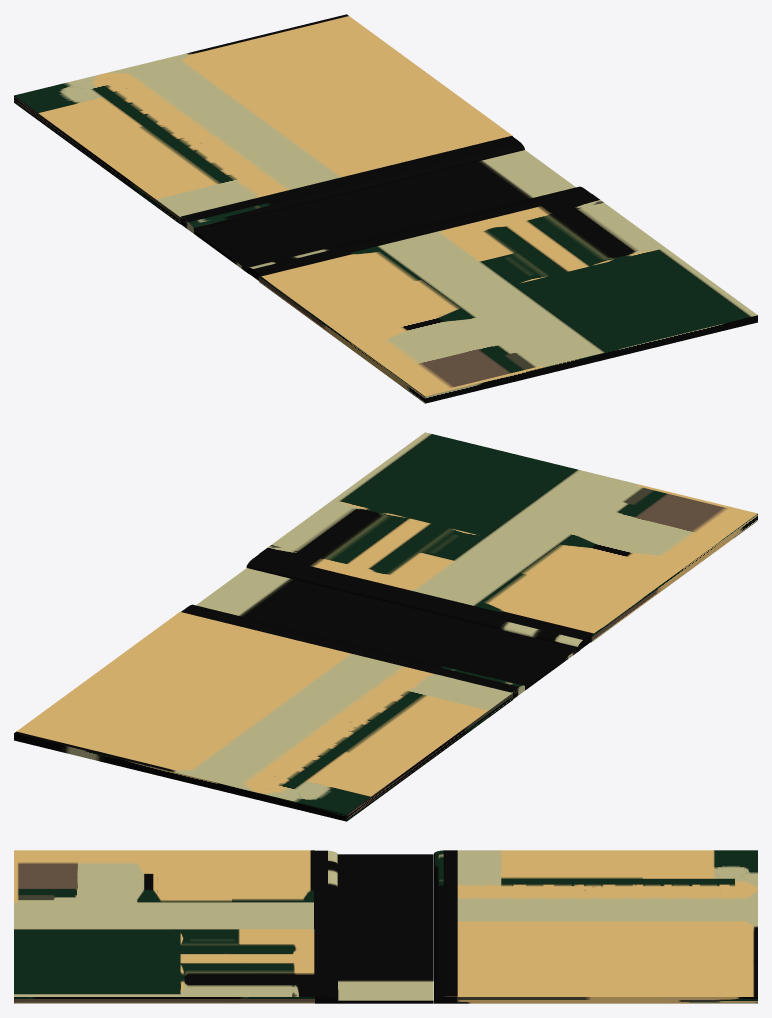
Rendered from TOWNHOUSE ROAD (FINAL).fbx.
3 renders of one model, top to bottom at view 1: azimuth 30°, elevation 25°; view 2: azimuth 150°, elevation 25°; view 3: azimuth 270°, elevation 25°, orthographic. The views are drawn at different scales.
Parts seen in each view (by area): view 1: Cube.001; view 2: Cube.001; view 3: Cube.001.
Part boxes in pixels (box(x1,y1,x2,y2)): Cube.001: box(14, 14, 757, 403); Cube.001: box(14, 432, 757, 821); Cube.001: box(14, 850, 757, 1003).
Size of the model in its own units: 2775 by 62.14 by 5937.
